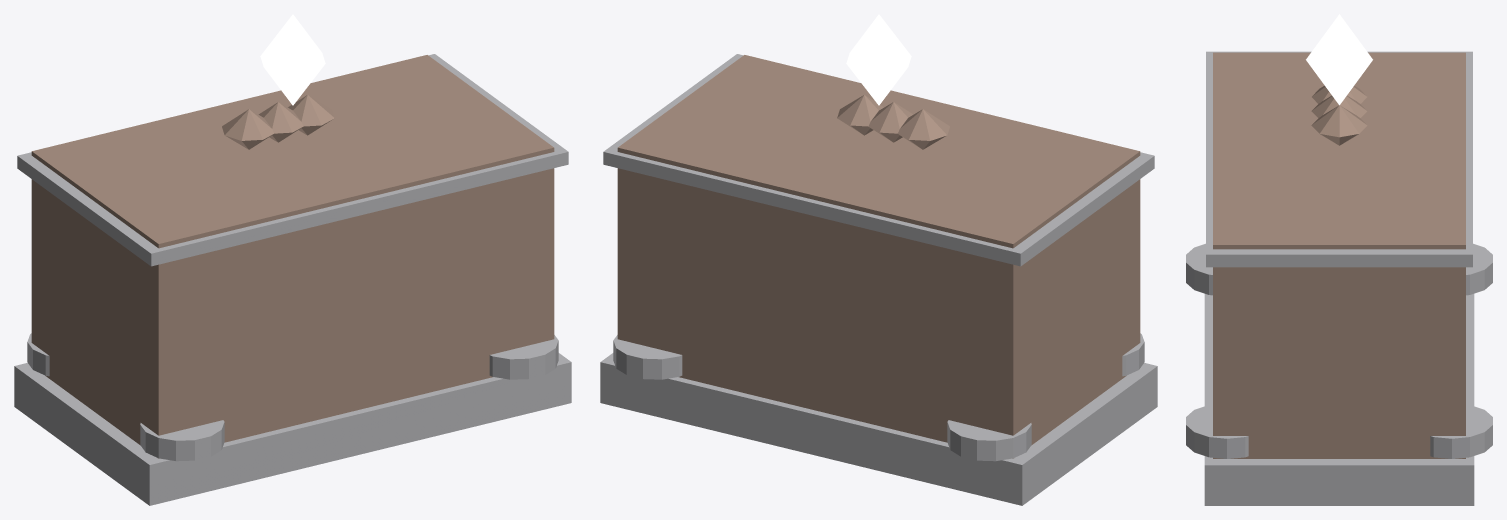
Rendered from ore_cart_epic.glb.
3 renders of one model, left to right at view 1: azimuth 30°, elevation 25°; view 2: azimuth 150°, elevation 25°; view 3: azimuth 270°, elevation 25°, orthographic.
Visible parts, largest first — view 1: ore_cart; view 2: ore_cart; view 3: ore_cart.
Boxes of the visible parts, x1,y1,x2,y2 form: ore_cart: (14, 14, 571, 505); ore_cart: (600, 14, 1157, 505); ore_cart: (1186, 14, 1492, 505).
Size of the model in its own units: 1.73 by 1.53 by 1.09.
